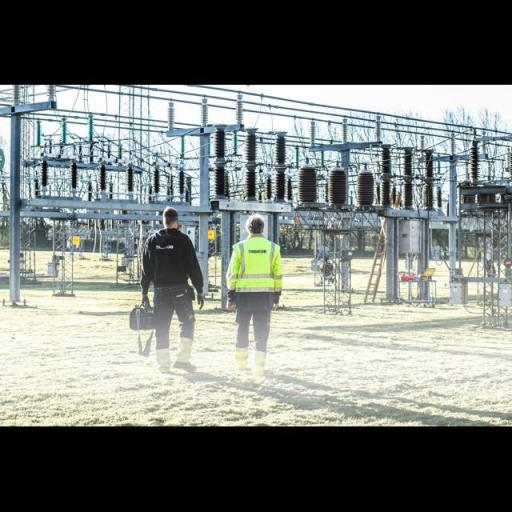Person: (212, 194, 310, 384), (130, 194, 215, 384)
boots: (170, 355, 199, 376)
gloves: (137, 290, 154, 312), (194, 286, 208, 312)
none: (141, 224, 206, 337)
vest: (223, 236, 289, 316)
